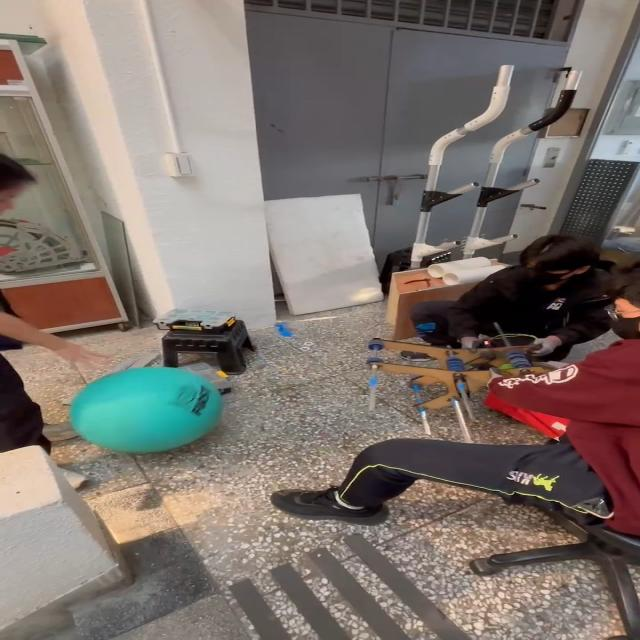ALGAE: (67, 365, 224, 455)
